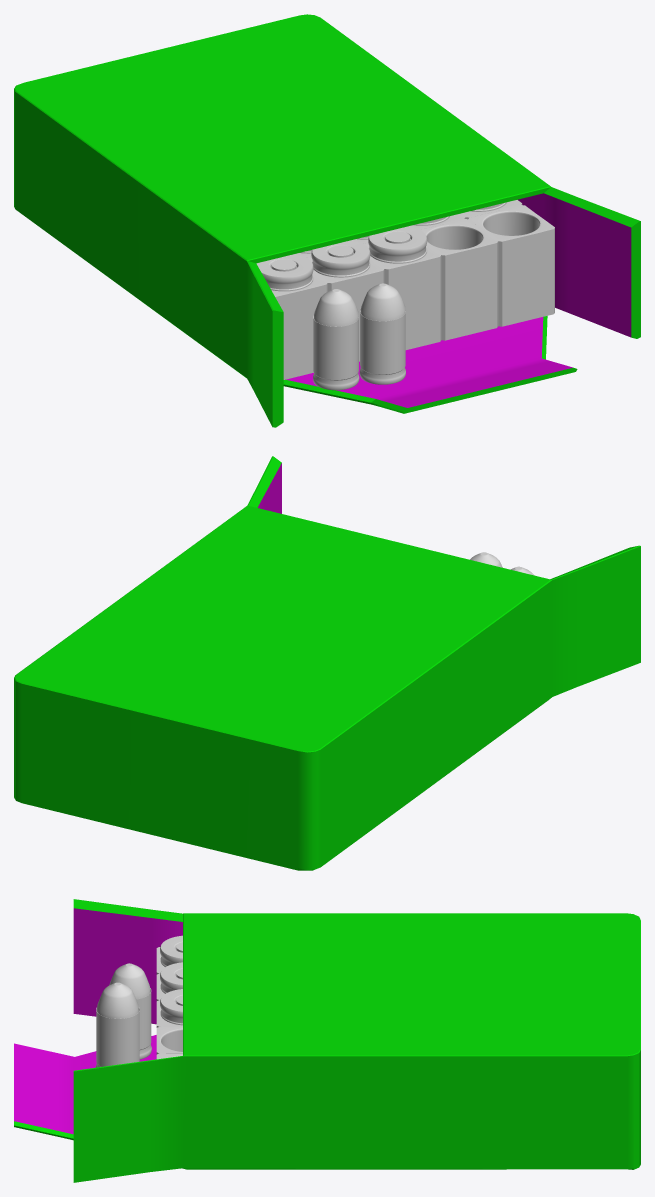
The model's file is Pistol_ammo_01.fbx.
3 views of the same model, one above another, from view 1: azimuth 30°, elevation 25°; view 2: azimuth 150°, elevation 25°; view 3: azimuth 270°, elevation 25° (orthographic). The views are drawn at different scales.
Visible parts, largest first — view 1: Ammo_Pistol_Box1, Holder4 (×5), Casing1 (×2), Casing6 (×3), Bullet1 (×2); view 2: Ammo_Pistol_Box1; view 3: Ammo_Pistol_Box1, Casing1 (×2), Bullet1 (×2), Casing6 (×3), Holder4.
Boxes of the visible parts, left/top/right/bottom form: Ammo_Pistol_Box1: left=14, top=14, right=640, bottom=427; Holder4 (×5): left=271, top=205, right=554, bottom=379; Casing1 (×2): left=313, top=310, right=405, bottom=390; Casing6 (×3): left=256, top=226, right=427, bottom=291; Bullet1 (×2): left=314, top=283, right=405, bottom=326; Ammo_Pistol_Box1: left=14, top=456, right=640, bottom=870; Ammo_Pistol_Box1: left=14, top=899, right=640, bottom=1182; Casing1 (×2): left=95, top=988, right=151, bottom=1067; Bullet1 (×2): left=97, top=963, right=150, bottom=1018; Casing6 (×3): left=160, top=935, right=182, bottom=1025; Holder4: left=156, top=1026, right=182, bottom=1054.
Size of the model in its own units: 2.03 by 0.6307 by 3.11.
